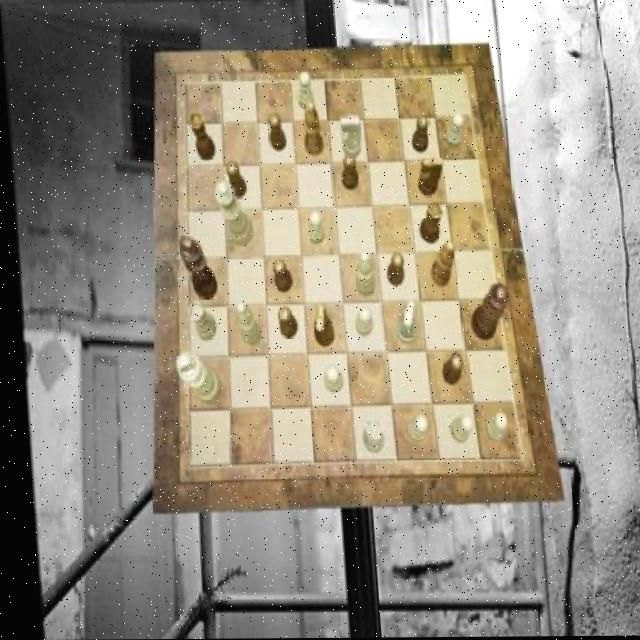bishop: (425, 240, 452, 287), (300, 101, 321, 156)
black-bishop: (176, 236, 215, 300)
black-king: (414, 157, 442, 198), (309, 306, 331, 349)
black-knight: (223, 162, 244, 200), (409, 116, 430, 154), (436, 354, 459, 387), (337, 155, 356, 191), (266, 114, 284, 152), (268, 260, 288, 294), (382, 253, 401, 288), (274, 308, 293, 340)
black-pawn: (464, 283, 508, 341)
black-queen: (186, 113, 213, 160), (415, 202, 441, 246)
black-rook: (230, 300, 257, 346), (349, 252, 371, 298)
white-bishop: (171, 351, 217, 405)
white-king: (389, 302, 413, 345), (339, 116, 361, 159)
white-knight: (442, 414, 468, 444), (442, 113, 463, 149), (479, 413, 503, 444), (295, 72, 312, 111), (304, 210, 322, 245), (400, 415, 422, 443), (349, 307, 368, 337), (319, 367, 338, 395)
white-pawn: (212, 180, 251, 246)
white-queen: (184, 302, 213, 342), (355, 418, 378, 454)
